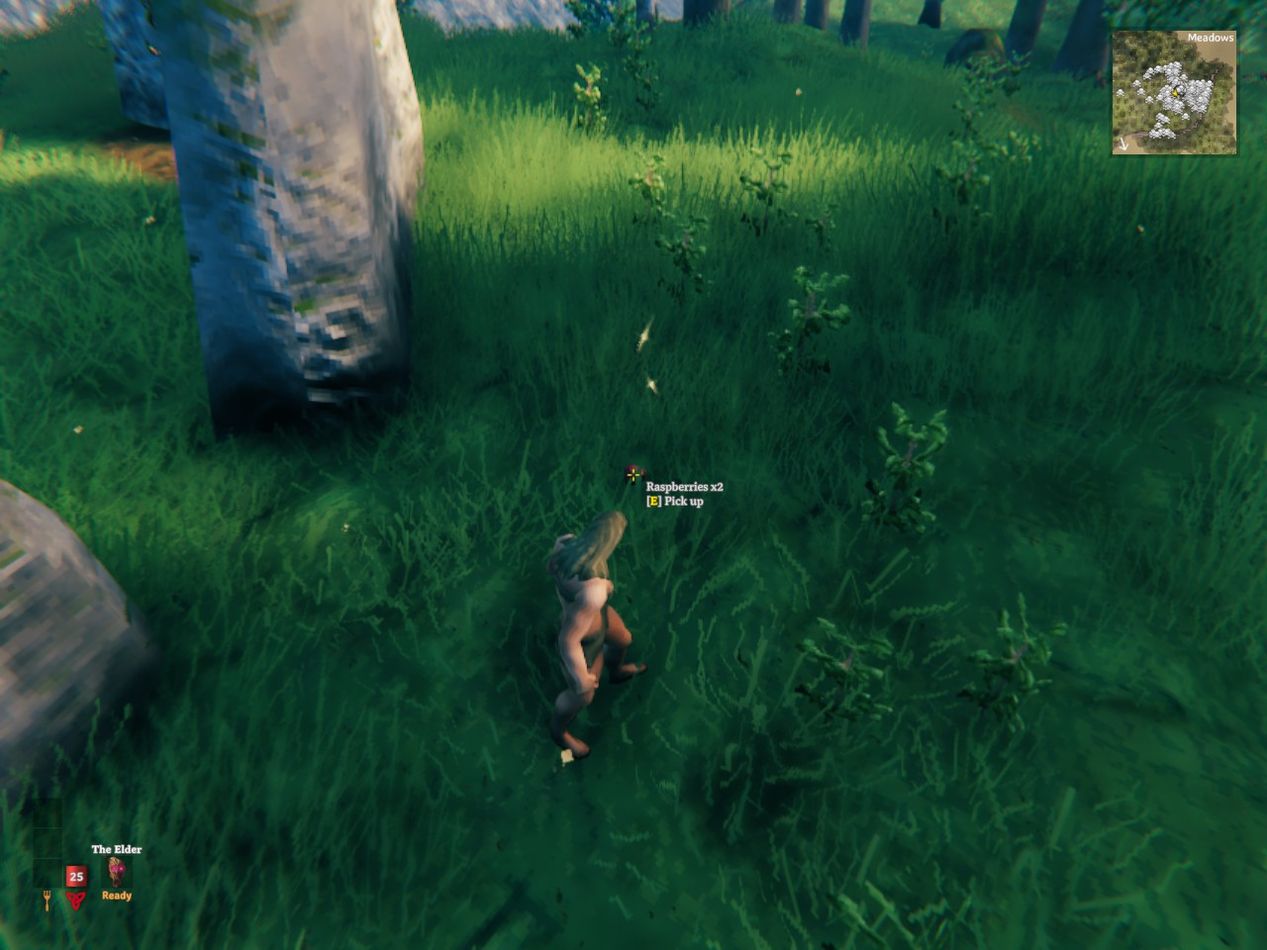Health Bar: (65, 866, 86, 887)
Raspberries: (626, 464, 642, 483)
